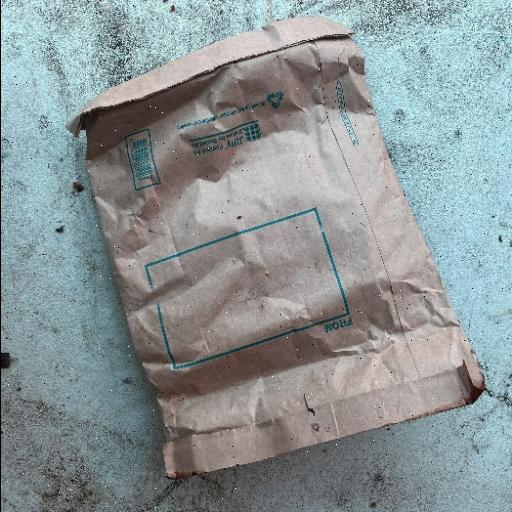Cardboard: (68, 14, 486, 480)
